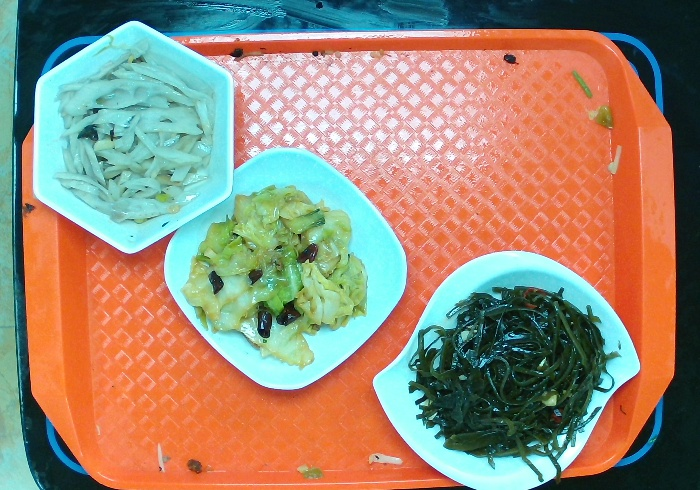RJxy-Liu_Jiao_Wan: (32, 9, 234, 256)
RJxy-Shuang_Jiao_Pan: (375, 249, 635, 490)
RJxy-Si_Fang_Wan: (162, 141, 407, 389)
